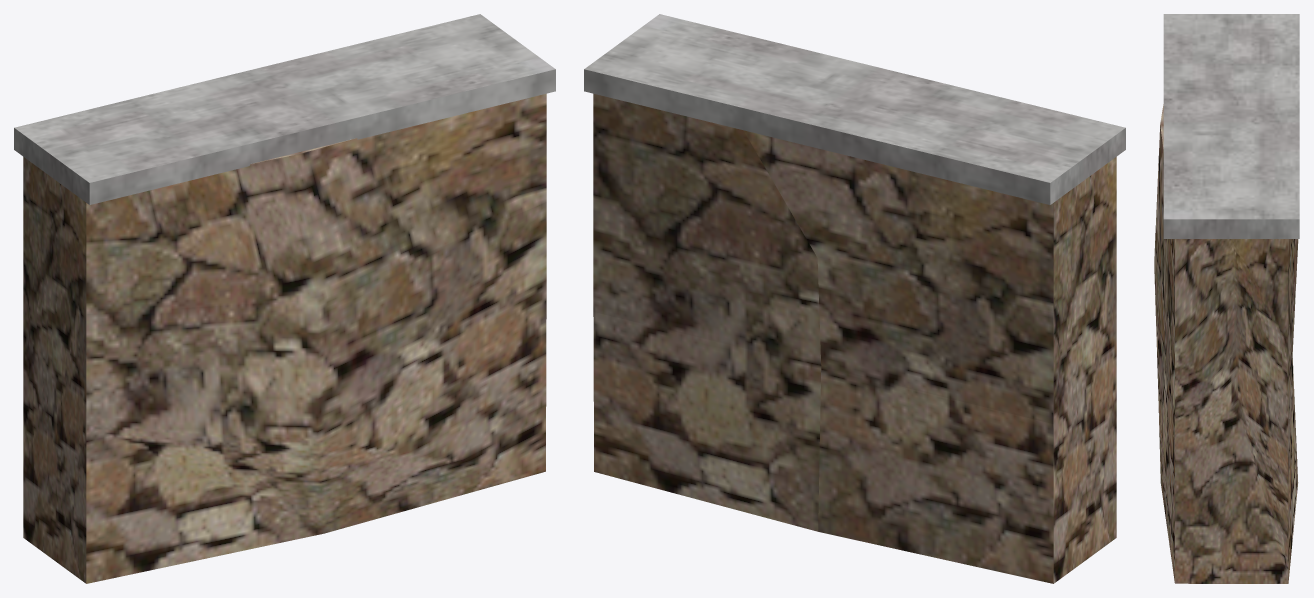
File: StoneWall_Panel_HalfCapped_Model.fbx
3 renders of one model, left to right at view 1: azimuth 30°, elevation 25°; view 2: azimuth 150°, elevation 25°; view 3: azimuth 270°, elevation 25°, orthographic. The views are drawn at different scales.
Visible parts, largest first — view 1: Body; view 2: Body; view 3: Body.
Boxes of the visible parts, x1=… form: Body: x1=14, y1=14, x2=555, y2=583; Body: x1=584, y1=14, x2=1125, y2=583; Body: x1=1154, y1=14, x2=1299, y2=583.
Bounding box in the file's own units: 100 × 83.28 × 30.
